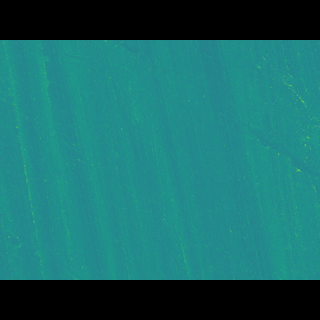Loch: (36, 75, 320, 176)
